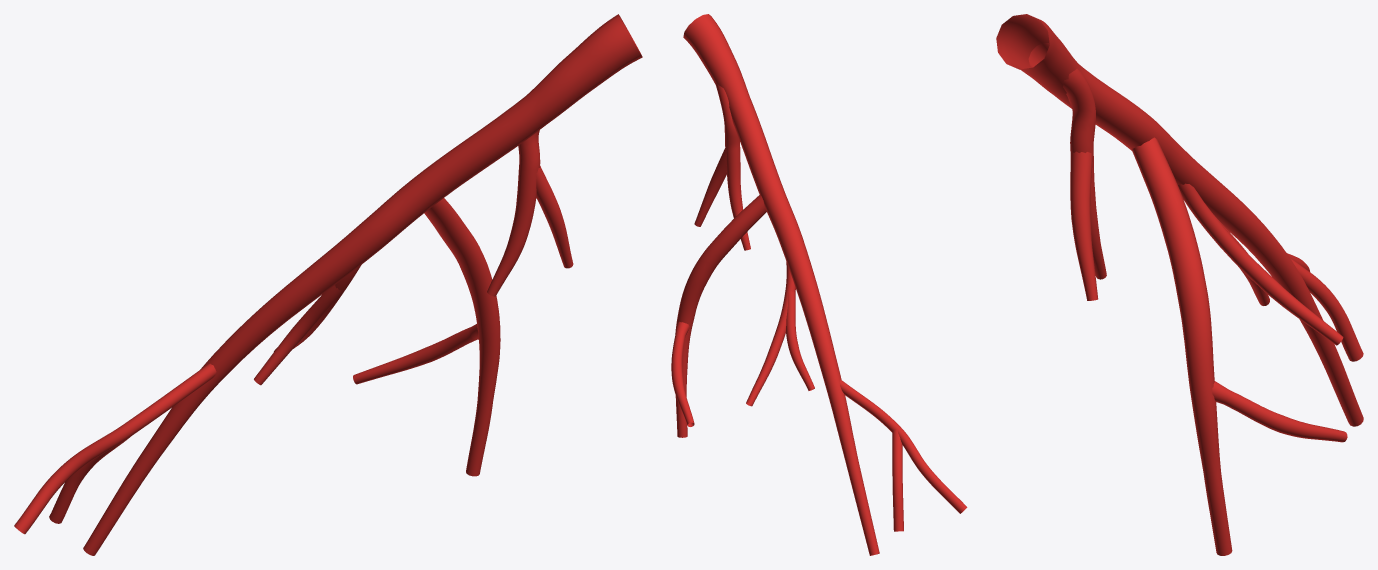
File: circulatorio-inferior-basal-vein-of-right-lung.glb
The picture shows the model from 3 angles, left to right: view 1: azimuth 30°, elevation 25°; view 2: azimuth 150°, elevation 25°; view 3: azimuth 270°, elevation 25°; orthographic projection. The views are drawn at different scales.
Parts seen in each view (by area): view 1: Inferior basal vein of right lung; view 2: Inferior basal vein of right lung; view 3: Inferior basal vein of right lung.
Part boxes in pixels (bbox=[...]): Inferior basal vein of right lung: bbox=[14, 14, 642, 555]; Inferior basal vein of right lung: bbox=[671, 14, 967, 555]; Inferior basal vein of right lung: bbox=[996, 14, 1363, 555].
Bounding box in the file's own units: 0.0822 × 0.0856 × 0.0459.
